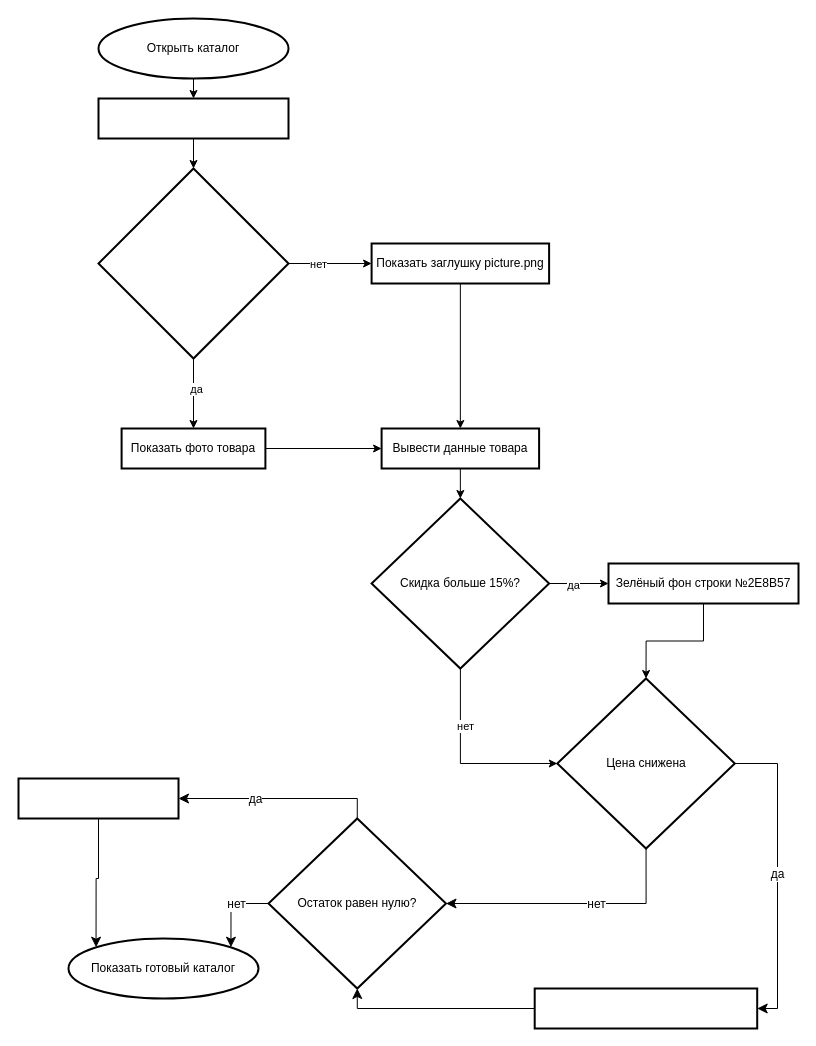
Image size: 816x1046. Some labels were removed from this diagram. Each missing label, with the centre of its shape:
"Голубой фон строки" belongs at point 98,798.
"Доступ разрешён?" belongs at point 193,263.
"Получить список товаров из БД" belongs at point 193,118.
"Старая цена: красная и зачёркнутая Итоговая цена: чёрная" belongs at point 645,1008.
